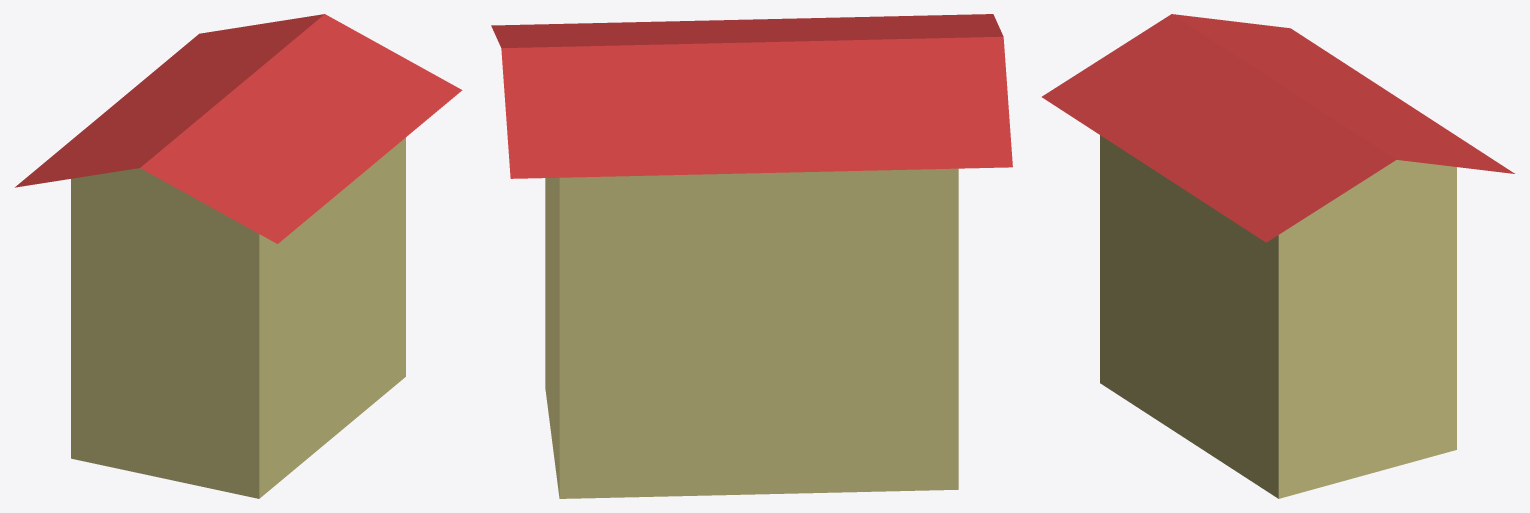
3 views of the same model, side by side, from view 1: azimuth 30°, elevation 25°; view 2: azimuth 150°, elevation 25°; view 3: azimuth 270°, elevation 25° (orthographic). The views are drawn at different scales.
Size of the model in its own units: 8.98 by 8.4 by 6.41.
